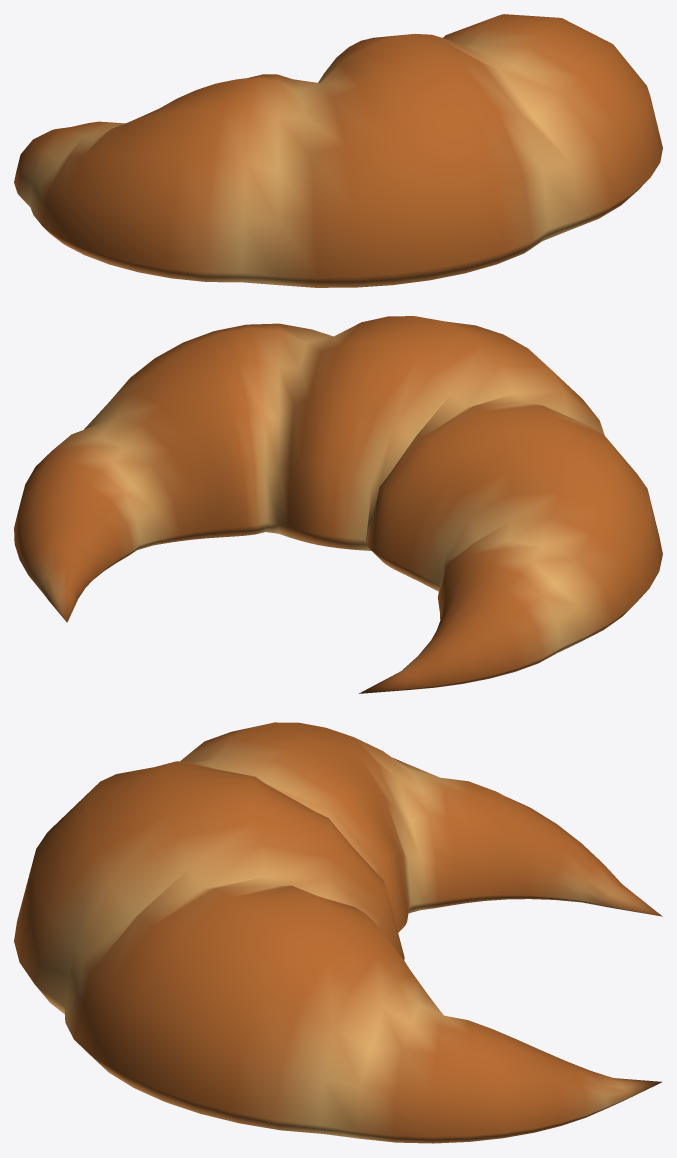
File: croissant.glb
3 renders of one model, top to bottom at view 1: azimuth 30°, elevation 25°; view 2: azimuth 150°, elevation 25°; view 3: azimuth 270°, elevation 25°, orthographic. The views are drawn at different scales.
Parts seen in each view (by area): view 1: croissant-crust; view 2: croissant-crust; view 3: croissant-crust.
Part boxes in pixels (bbox=[...]): croissant-crust: bbox=[14, 14, 662, 287]; croissant-crust: bbox=[14, 316, 662, 693]; croissant-crust: bbox=[14, 722, 662, 1143].
Size of the model in its own units: 1 by 0.3101 by 0.8447.
